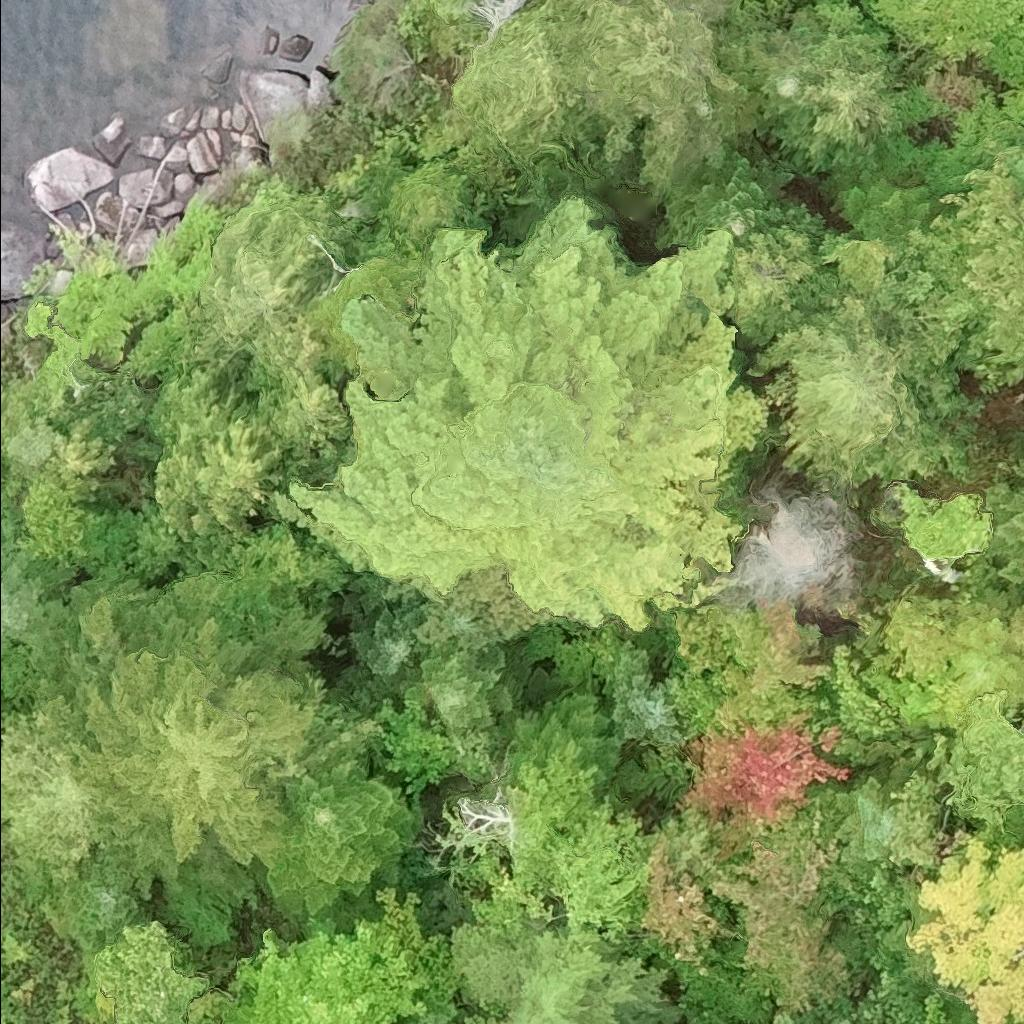crown: (271, 197, 742, 631), (71, 593, 288, 900), (548, 0, 743, 198), (752, 293, 923, 484), (249, 758, 414, 931), (708, 820, 850, 1015), (448, 917, 687, 1023), (472, 739, 601, 934), (676, 717, 851, 858), (213, 917, 430, 1023), (779, 0, 908, 173), (674, 594, 832, 733), (906, 836, 1023, 1023), (714, 473, 859, 607), (0, 691, 98, 887), (545, 792, 660, 949), (874, 578, 1023, 685), (653, 141, 795, 252), (89, 919, 210, 1023), (332, 598, 426, 714), (414, 640, 522, 739), (727, 225, 819, 335), (374, 684, 457, 802), (600, 649, 685, 747), (756, 16, 821, 140), (59, 856, 142, 953), (411, 596, 505, 669), (828, 775, 893, 875), (0, 515, 47, 641), (982, 481, 1023, 586), (0, 957, 14, 1022), (771, 1011, 792, 1023), (838, 1017, 851, 1023), (1021, 846, 1023, 849)
